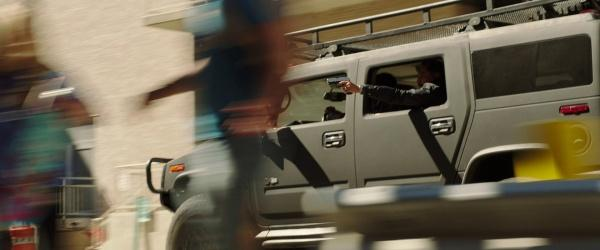Gun: (326, 77, 353, 96)
